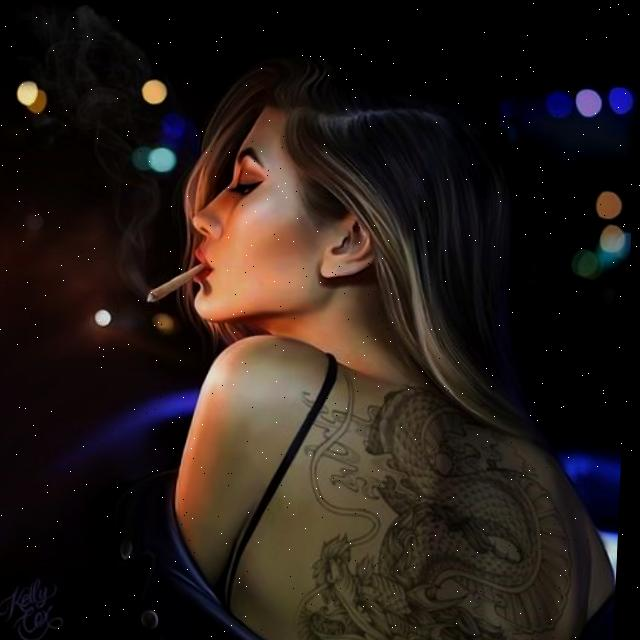cigarette: (148, 258, 209, 303)
